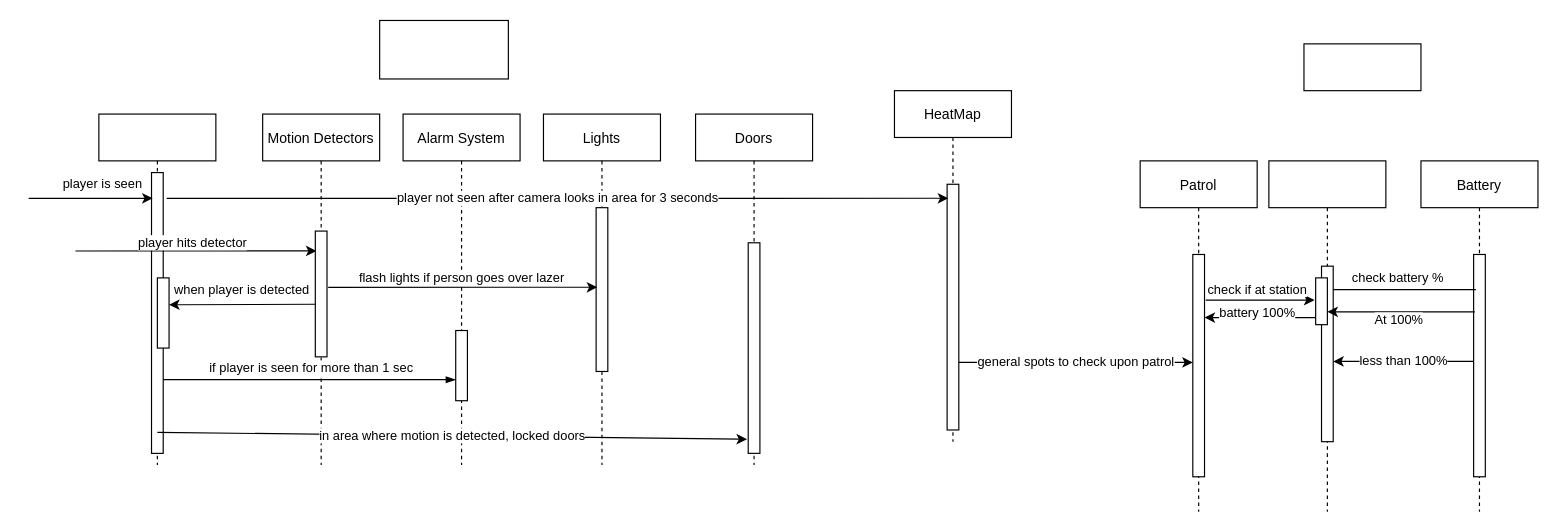
Image size: 1558x532. Some labels were removed from this diagram. The shapes that lost their labels are listed below. From the top down, each one's centre as x and y in pixels, then its label:
At (443,49): "Director".
At (1362,67): "Robot".
At (157,289): "Cameras".
At (1327,336): "Charging Station".
